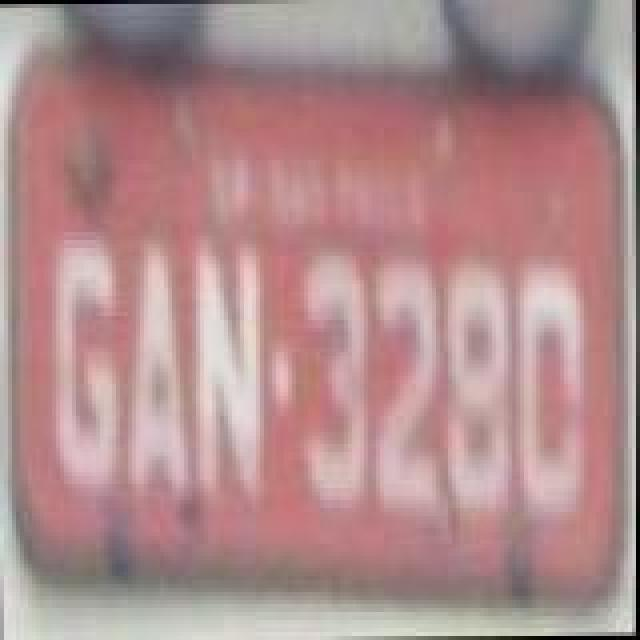2: (370, 262, 446, 518)
3: (298, 256, 374, 512)
8: (442, 258, 518, 514)
A: (124, 242, 192, 498)
G: (48, 238, 124, 490)
N: (192, 238, 268, 502)
O: (512, 260, 592, 516)
